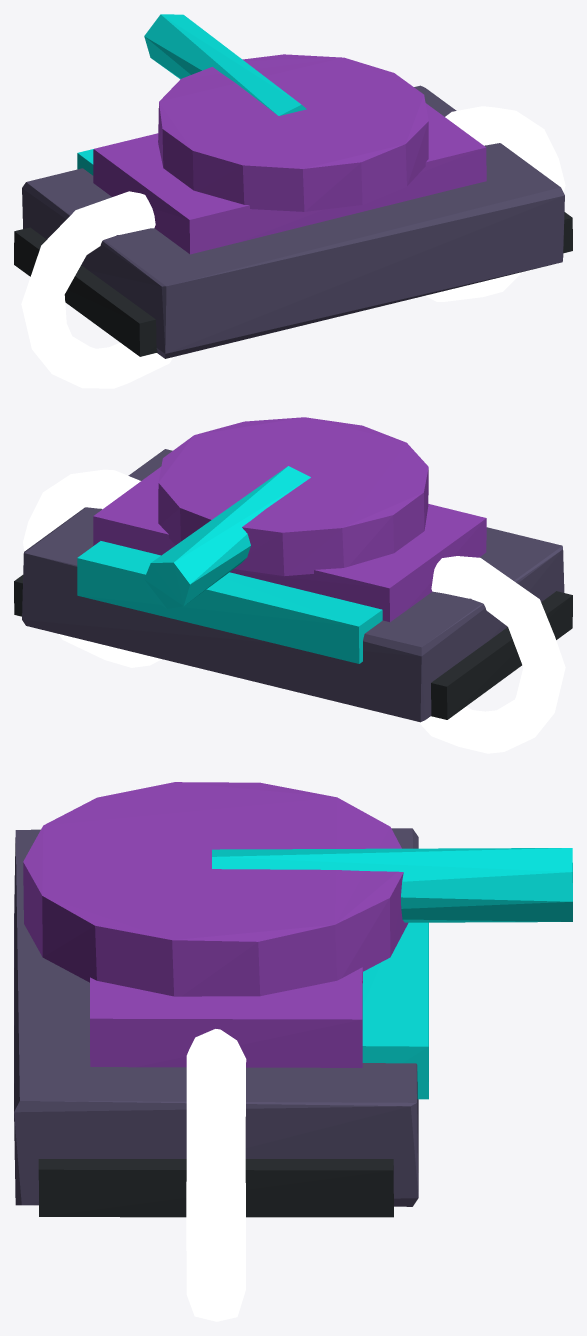
The model's file is SM_Chronolegion_CH_TimelineTank_LOD2.fbx.
3 renders of one model, top to bottom at view 1: azimuth 30°, elevation 25°; view 2: azimuth 150°, elevation 25°; view 3: azimuth 270°, elevation 25°, orthographic. The views are drawn at different scales.
Parts seen in each view (by area): view 1: LOD02_SM_Chronolegion_CH_TimelineTank; view 2: LOD02_SM_Chronolegion_CH_TimelineTank; view 3: LOD02_SM_Chronolegion_CH_TimelineTank.
Boxes of the visible parts, box(x1,y1,x2,y2) form: LOD02_SM_Chronolegion_CH_TimelineTank: box(14, 14, 572, 388); LOD02_SM_Chronolegion_CH_TimelineTank: box(14, 417, 572, 753); LOD02_SM_Chronolegion_CH_TimelineTank: box(14, 782, 572, 1321).
Size of the model in its own units: 556 by 356 by 236.
